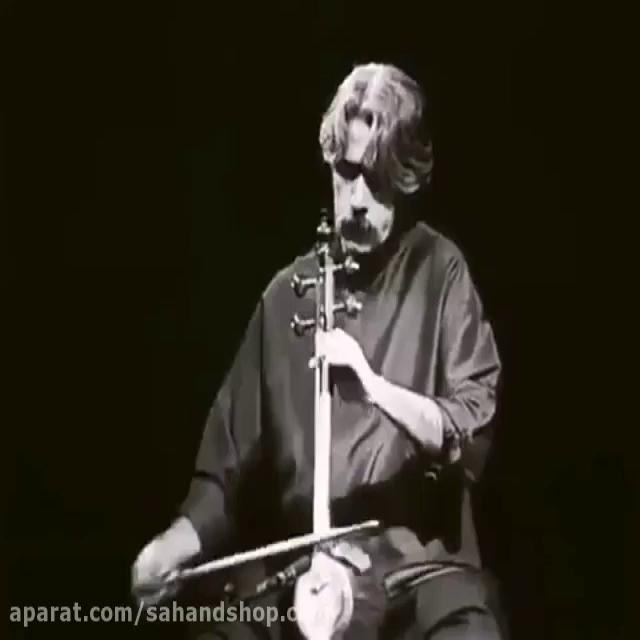Daf: (284, 208, 403, 638)
